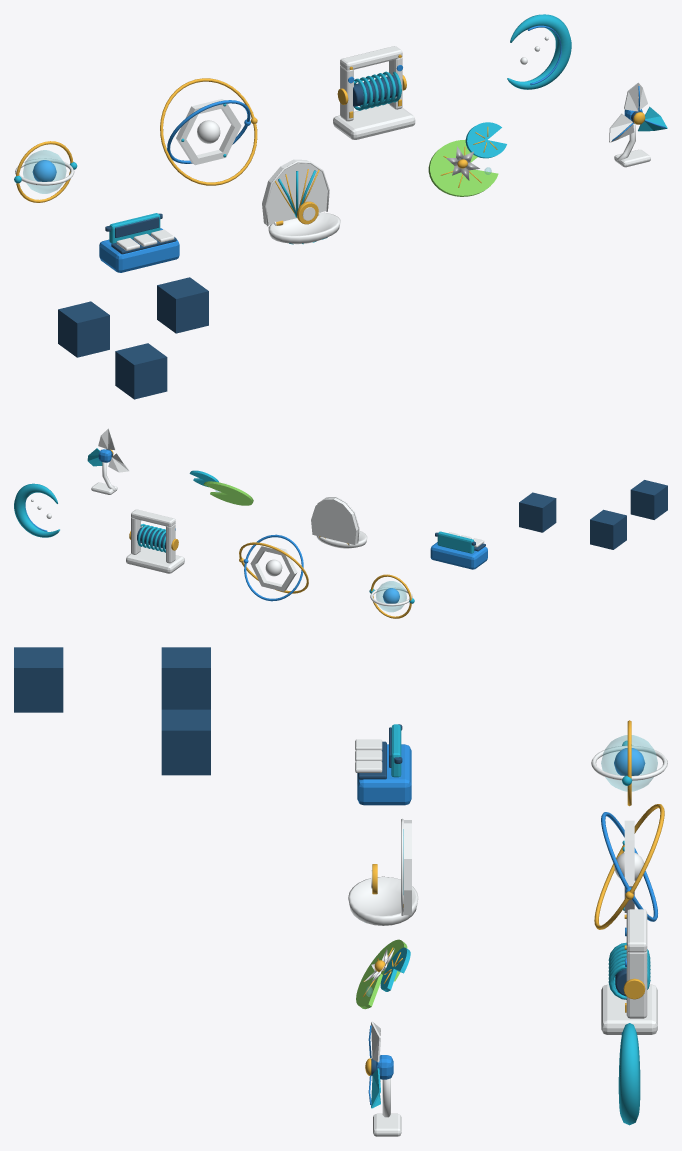
The model's file is catalog-partial-b352b758-001.glb.
3 renders of one model, top to bottom at view 1: azimuth 30°, elevation 25°; view 2: azimuth 150°, elevation 25°; view 3: azimuth 270°, elevation 25°, orthographic. The views are drawn at different scales.
Parts seen in each view (by area): view 1: relay__Fixed_pearl_04, landing_fund__ShellLid_pearl_06, catalog_partial_b352b758_001__calibration_front, catalog_partial_b352b758_001__calibration_right, catalog_partial_b352b758_001__calibration_origin, lily_pad__LilyPad_green_05, soft_saw__Current_teal_05, lagoon_synth__Fixed_blue_01, landing_fund__Fixed_pearl_05, pearl_diver__HexRing_pearl_04, ozone_orb__OzoneShell_glass_02, pearl_diver__OrbitGold_gold_02 (+8 smaller); view 2: relay__Fixed_pearl_04, landing_fund__ShellLid_pearl_06, catalog_partial_b352b758_001__calibration_right, catalog_partial_b352b758_001__calibration_front, catalog_partial_b352b758_001__calibration_origin, soft_saw__Current_teal_05, lagoon_synth__Fixed_blue_01, pearl_diver__HexRing_pearl_04, lily_pad__LilyPad_green_05, ozone_orb__OzoneShell_glass_02, lagoon_synth__Fixed_teal_06, pearl_diver__OrbitBlue_blue_01 (+6 smaller); view 3: relay__Fixed_pearl_04, catalog_partial_b352b758_001__calibration_right, catalog_partial_b352b758_001__calibration_front, catalog_partial_b352b758_001__calibration_origin, landing_fund__Fixed_pearl_05, ozone_orb__OzoneShell_glass_02, soft_saw__Current_teal_05, lagoon_synth__Fixed_blue_01, pearl_diver__OrbitGold_gold_02, landing_fund__ShellLid_pearl_06, lily_pad__LilyPad_green_05, mist_fan__Fixed_pearl_05 (+4 smaller).
Part boxes in pixels (bbox=[...]): relay__Fixed_pearl_04: bbox=[333, 46, 415, 139]; landing_fund__ShellLid_pearl_06: bbox=[262, 159, 329, 226]; catalog_partial_b352b758_001__calibration_front: bbox=[115, 343, 167, 399]; catalog_partial_b352b758_001__calibration_right: bbox=[157, 277, 208, 333]; catalog_partial_b352b758_001__calibration_origin: bbox=[58, 301, 109, 357]; lily_pad__LilyPad_green_05: bbox=[428, 139, 498, 196]; soft_saw__Current_teal_05: bbox=[507, 14, 571, 89]; lagoon_synth__Fixed_blue_01: bbox=[99, 228, 179, 272]; landing_fund__Fixed_pearl_05: bbox=[268, 212, 340, 244]; pearl_diver__HexRing_pearl_04: bbox=[176, 99, 241, 165]; ozone_orb__OzoneShell_glass_02: bbox=[23, 150, 66, 193]; pearl_diver__OrbitGold_gold_02: bbox=[160, 78, 257, 185]; relay__Fixed_pearl_04: bbox=[126, 509, 184, 573]; landing_fund__ShellLid_pearl_06: bbox=[311, 497, 359, 544]; catalog_partial_b352b758_001__calibration_right: bbox=[519, 492, 556, 532]; catalog_partial_b352b758_001__calibration_front: bbox=[630, 480, 667, 519]; catalog_partial_b352b758_001__calibration_origin: bbox=[590, 509, 626, 549]; soft_saw__Current_teal_05: bbox=[14, 483, 59, 537]; lagoon_synth__Fixed_blue_01: bbox=[430, 542, 487, 569]; pearl_diver__HexRing_pearl_04: bbox=[250, 545, 297, 591]; lily_pad__LilyPad_green_05: bbox=[203, 481, 253, 505]; ozone_orb__OzoneShell_glass_02: bbox=[376, 581, 406, 611]; lagoon_synth__Fixed_teal_06: bbox=[437, 531, 474, 553]; pearl_diver__OrbitBlue_blue_01: bbox=[243, 534, 303, 601]; relay__Fixed_pearl_04: bbox=[601, 909, 657, 1034]; catalog_partial_b352b758_001__calibration_right: bbox=[161, 709, 210, 775]; catalog_partial_b352b758_001__calibration_front: bbox=[14, 647, 63, 712]; catalog_partial_b352b758_001__calibration_origin: bbox=[161, 647, 210, 709]; landing_fund__Fixed_pearl_05: bbox=[348, 876, 418, 925]; ozone_orb__OzoneShell_glass_02: bbox=[601, 735, 657, 791]; soft_saw__Current_teal_05: bbox=[618, 1023, 640, 1125]; lagoon_synth__Fixed_blue_01: bbox=[357, 744, 411, 805]; pearl_diver__OrbitGold_gold_02: bbox=[594, 804, 664, 929]; landing_fund__ShellLid_pearl_06: bbox=[401, 818, 411, 915]; lily_pad__LilyPad_green_05: bbox=[356, 939, 407, 1009]; mist_fan__Fixed_pearl_05: bbox=[373, 1078, 401, 1136].
Bounding box in the file's own units: 5.73 × 0.6979 × 3.72.
